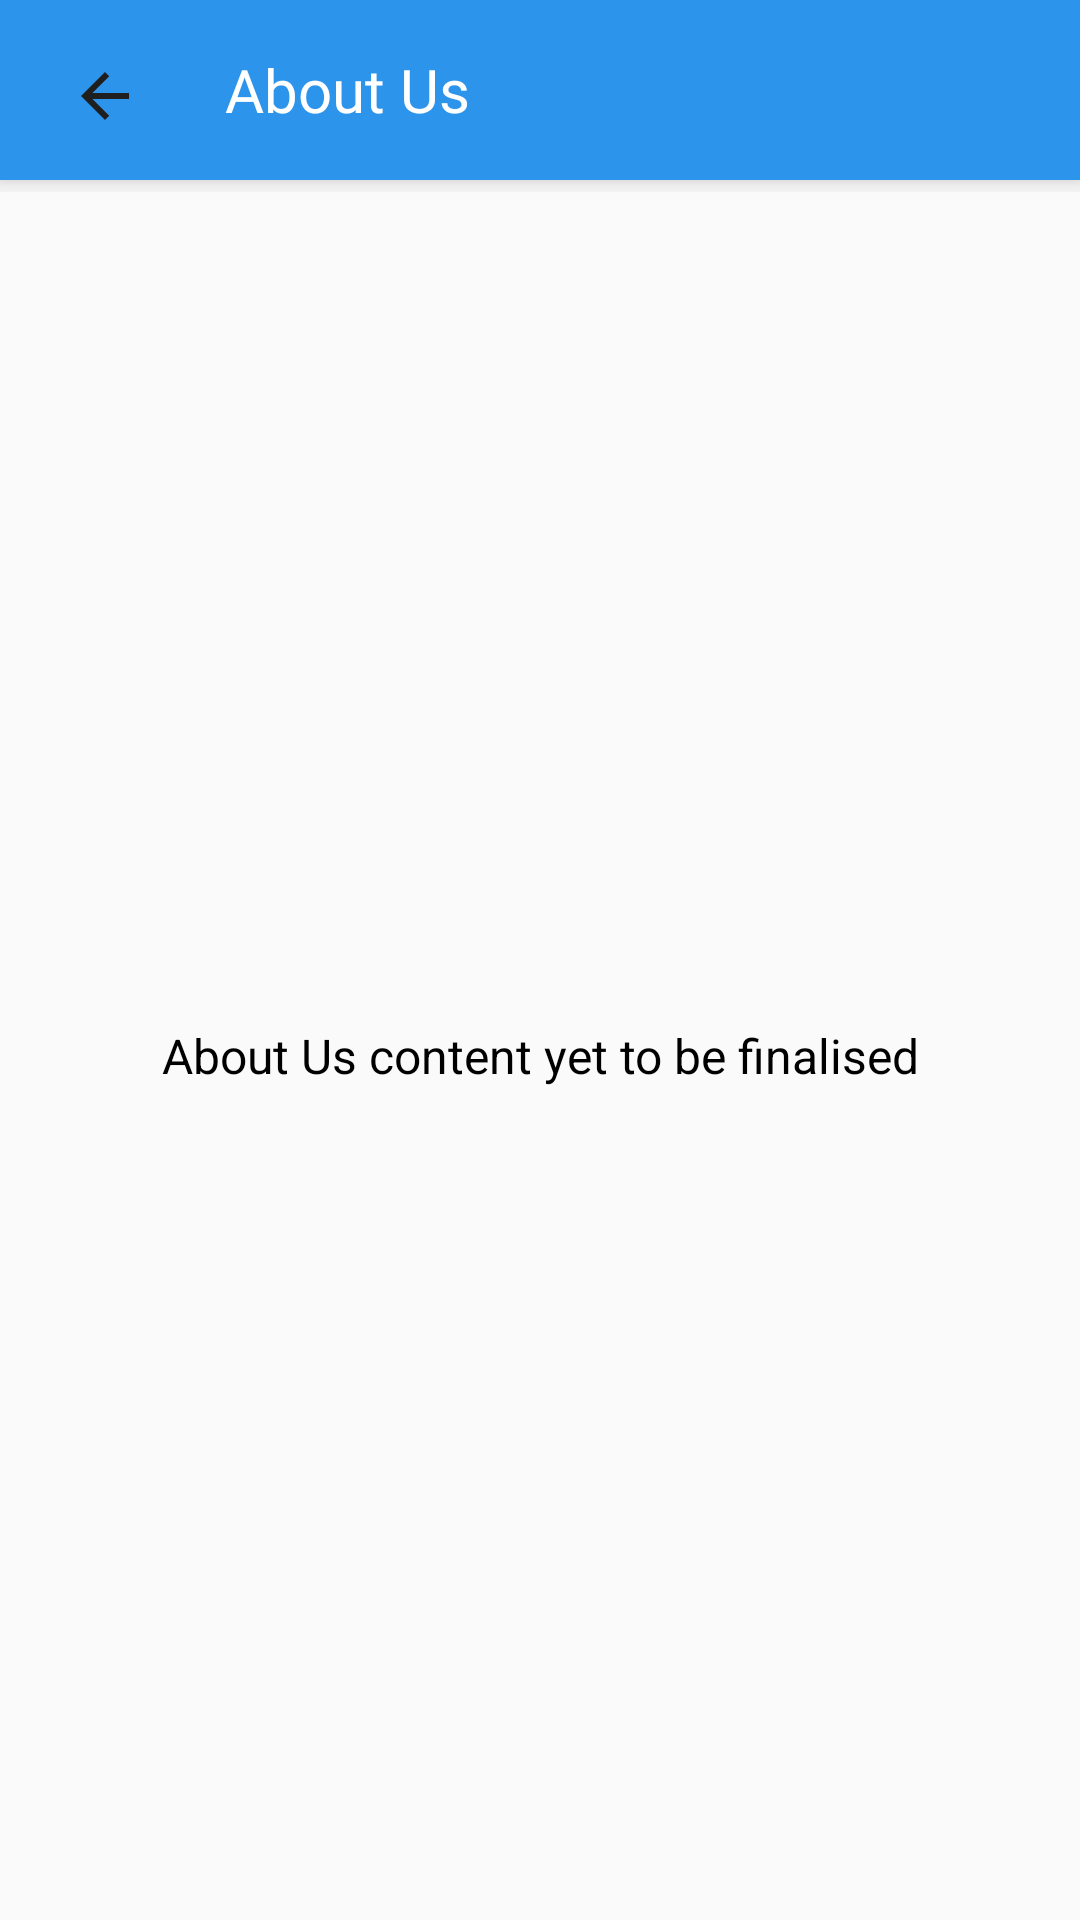

Named icons in this screenshot (1080w x 1920h) and their centers, (x,y):
back: (105,96)
